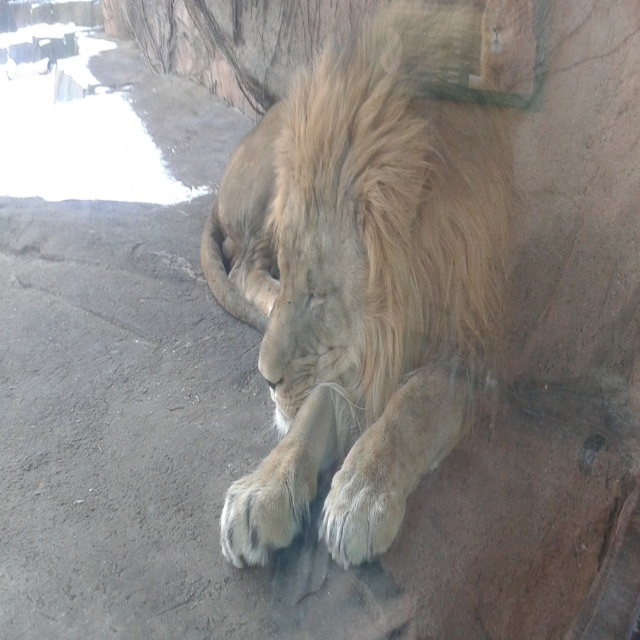Lion: (196, 4, 520, 572)
